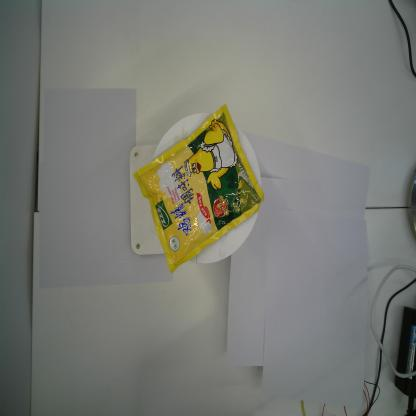Seasoner: (134, 102, 264, 273)
